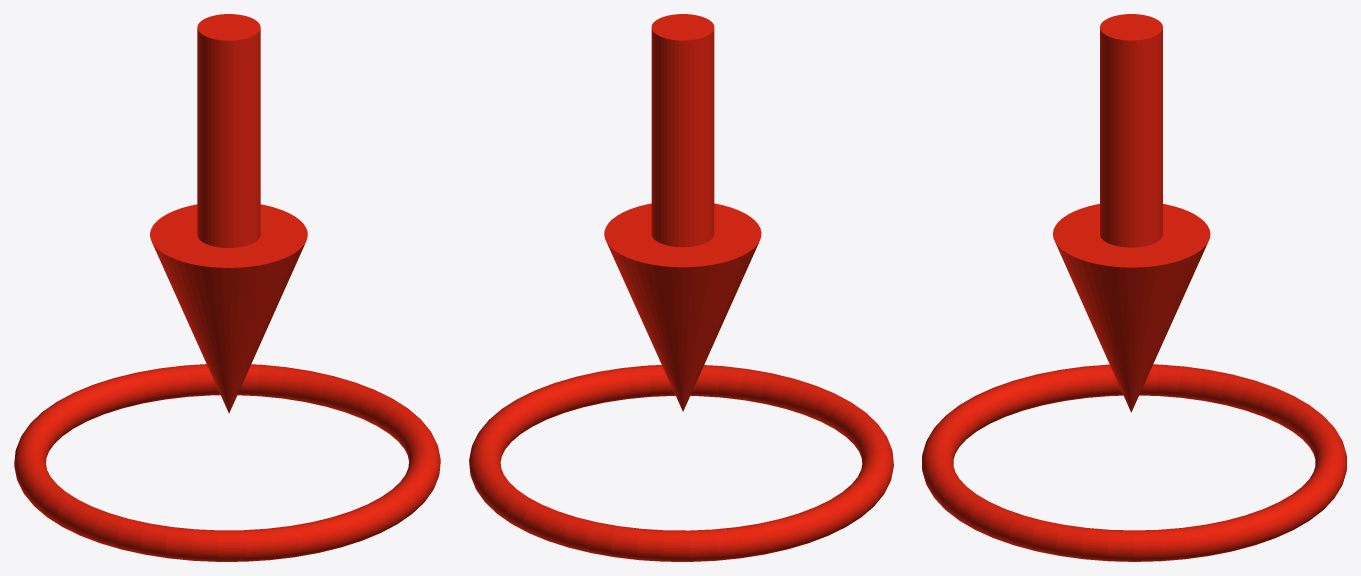
Rendered from Arrow.fbx.
3 views of the same model, side by side, from view 1: azimuth 30°, elevation 25°; view 2: azimuth 150°, elevation 25°; view 3: azimuth 270°, elevation 25° (orthographic).
Parts seen in each view (by area): view 1: Arrow, Circle; view 2: Arrow, Circle; view 3: Arrow, Circle.
Boxes of the visible parts, x1,y1,x2,y2 form: Arrow: [150, 14, 307, 413]; Circle: [14, 364, 440, 561]; Arrow: [604, 14, 761, 411]; Circle: [469, 365, 893, 561]; Arrow: [1053, 14, 1210, 412]; Circle: [922, 364, 1346, 561].
Bounding box in the file's own units: 540 × 630 × 539.
